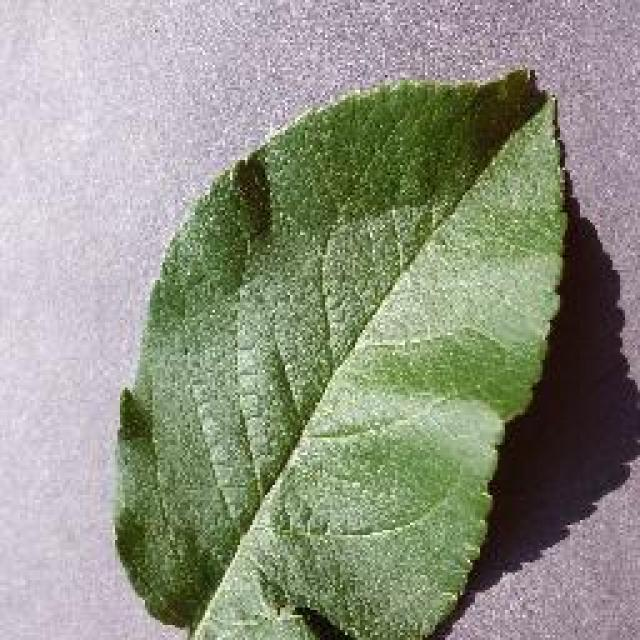apple healthy: (110, 65, 572, 637)
